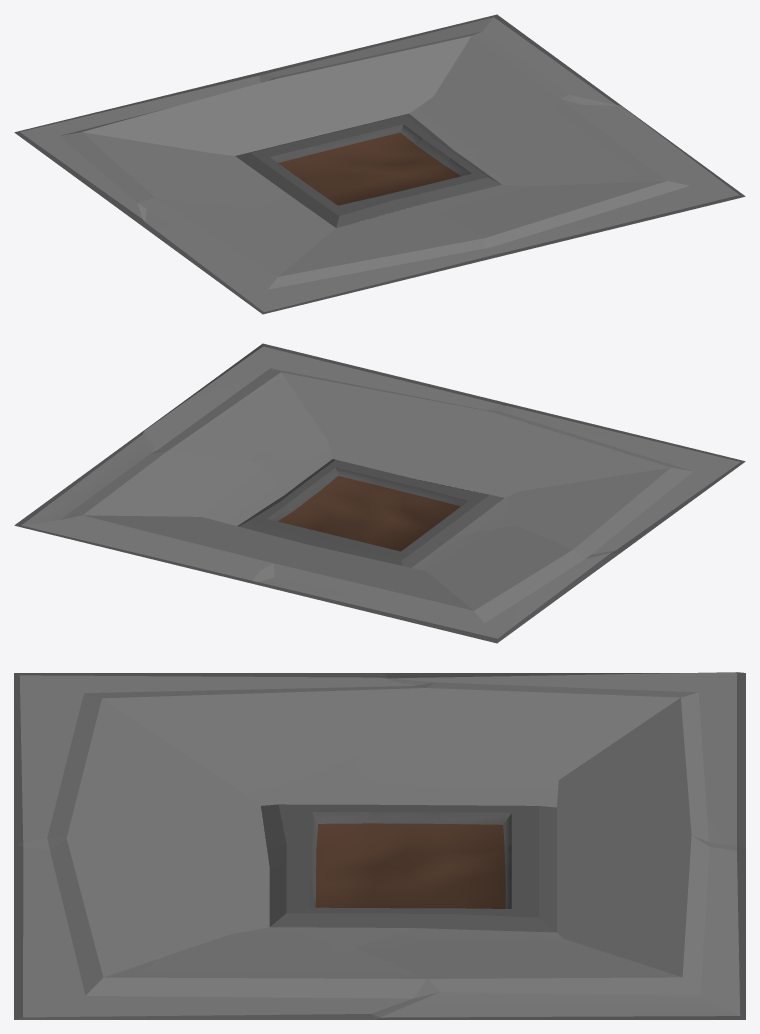
File: Sidewalk_with_tree_place.fbx
3 renders of one model, top to bottom at view 1: azimuth 30°, elevation 25°; view 2: azimuth 150°, elevation 25°; view 3: azimuth 270°, elevation 25°, orthographic. The views are drawn at different scales.
Parts seen in each view (by area): view 1: SM_Env_Sidewalk_Grate_02; view 2: SM_Env_Sidewalk_Grate_02; view 3: SM_Env_Sidewalk_Grate_02.
Part boxes in pixels (x1=…): SM_Env_Sidewalk_Grate_02: x1=14, y1=14, x2=745, y2=314; SM_Env_Sidewalk_Grate_02: x1=14, y1=343, x2=745, y2=643; SM_Env_Sidewalk_Grate_02: x1=14, y1=672, x2=745, y2=1019.
Size of the model in its own units: 2.39 by 0.1063 by 2.13.
